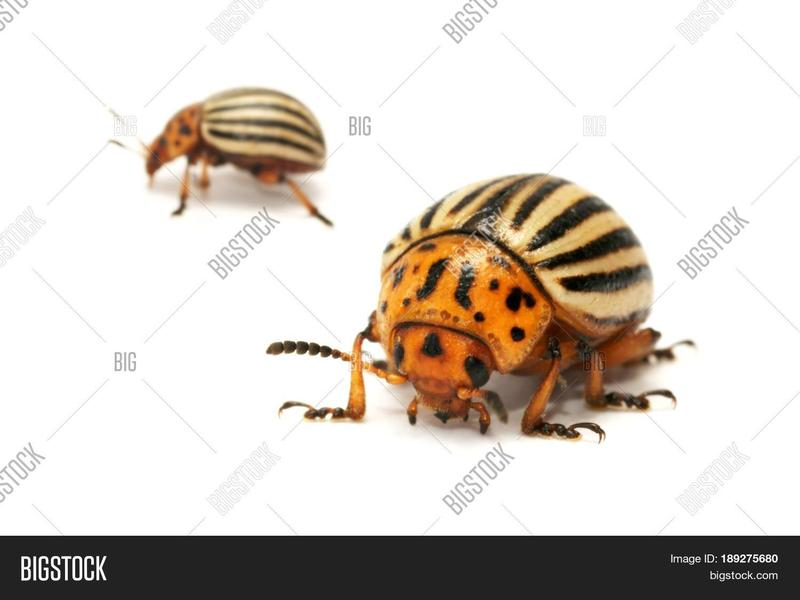hrosc: (360, 164, 683, 436), (137, 72, 331, 215)
